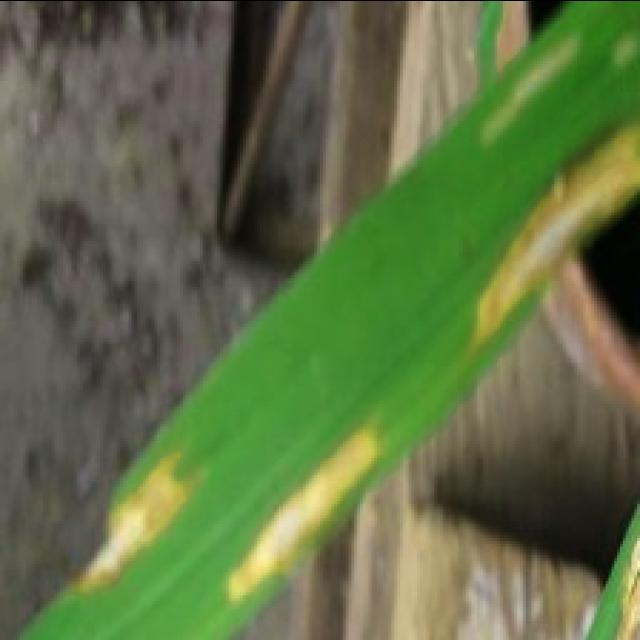Unhealthy: (453, 122, 640, 375), (219, 403, 388, 611), (67, 445, 210, 600), (480, 26, 582, 148), (613, 530, 640, 640), (610, 26, 639, 67)
